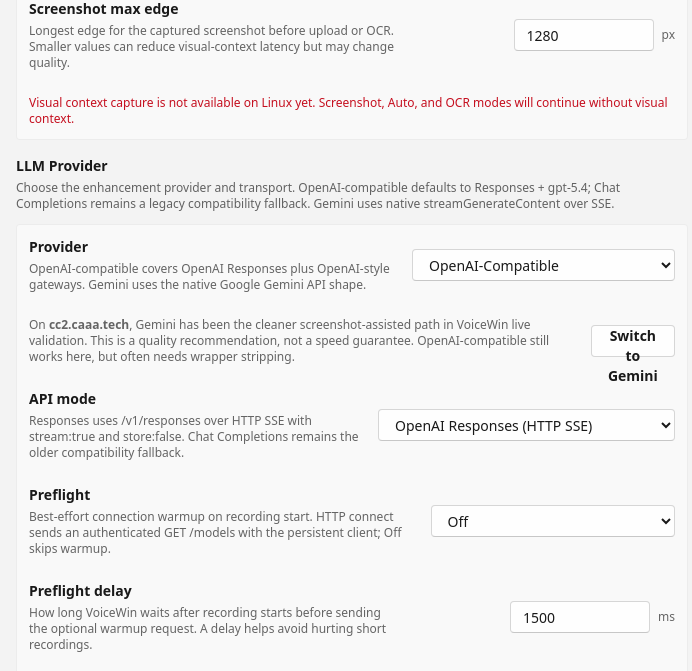
SettingsPage loading and local model status › recommends the Gemini screenshot stack on the validated cc2 gateway and switches in one click
The image size is (692, 671).
(page scrolled)
Expected: the text "Gemini has been the cleaner screenshot-assisted path" is shown, 29,316 -> 530,349
Step 1. Click the button "Switch to Gemini" → (633,341), box 591,325 -> 675,357
(page scrolled)
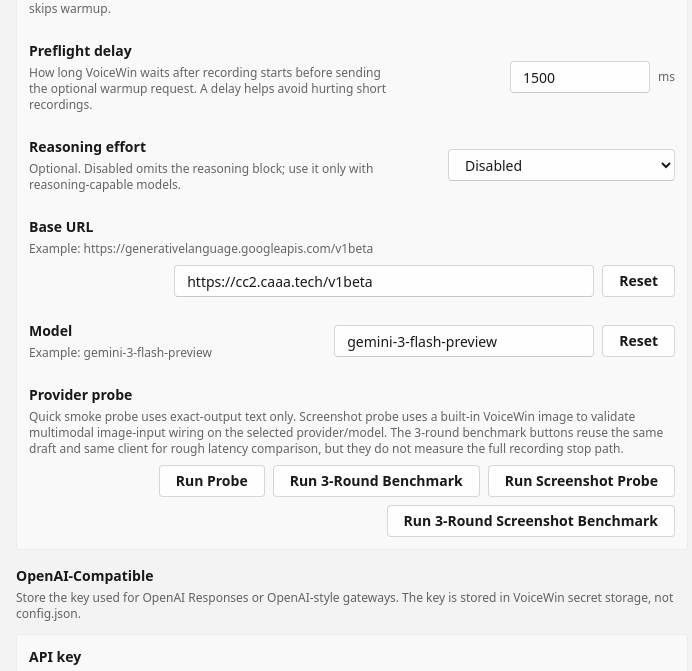
Expected: the field showing "https://cc2.caaa.tech/v1beta" below "Base URL" is shown, 174,265 -> 594,297
Expected: the field showing "gemini-3-flash-preview" next to "Example: gemini-3-flash-preview" is shown, 334,325 -> 594,357
